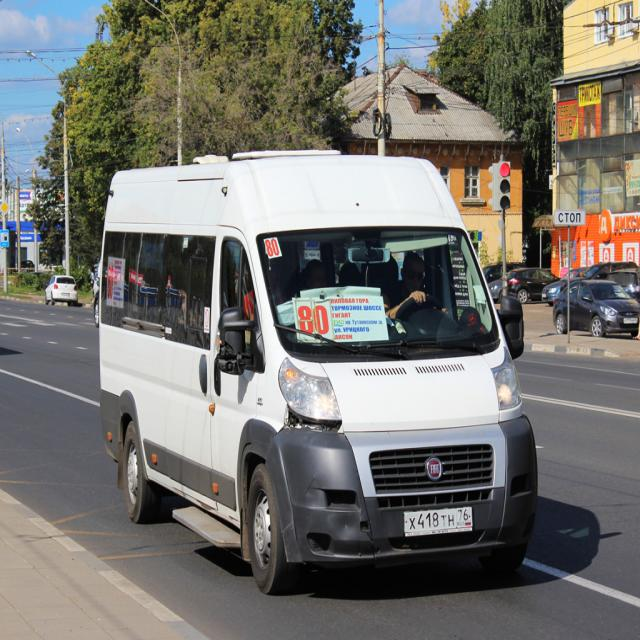number-of-bus: (298, 304, 331, 337), (266, 240, 281, 258)
